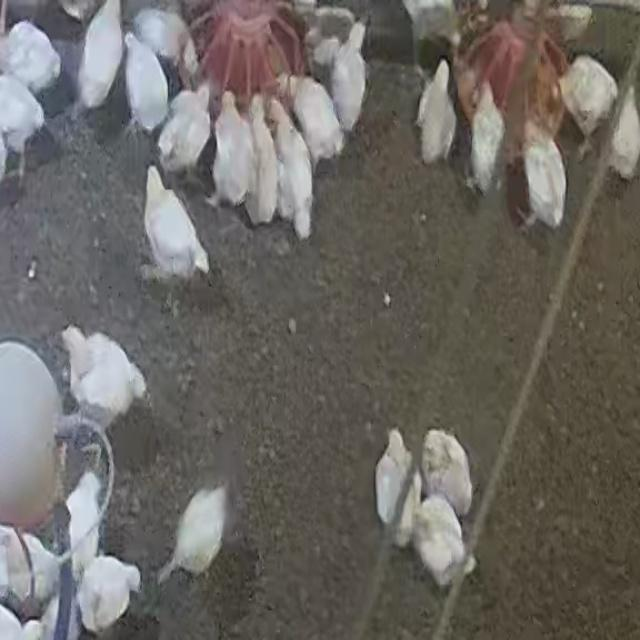chicken: (59, 328, 147, 432), (141, 164, 210, 287), (153, 478, 230, 585), (371, 429, 424, 550), (558, 53, 618, 157), (1, 523, 63, 621), (409, 498, 475, 589), (211, 91, 256, 217), (155, 84, 214, 179), (76, 1, 126, 112), (60, 463, 107, 581), (75, 552, 142, 634), (1, 74, 48, 189), (272, 100, 312, 234), (122, 32, 171, 136), (419, 422, 474, 514), (290, 72, 344, 164), (328, 22, 369, 134), (520, 133, 568, 228), (247, 92, 281, 226), (4, 19, 62, 96), (415, 59, 456, 164), (469, 79, 506, 193), (132, 6, 194, 71), (405, 0, 467, 60), (607, 82, 640, 180)
